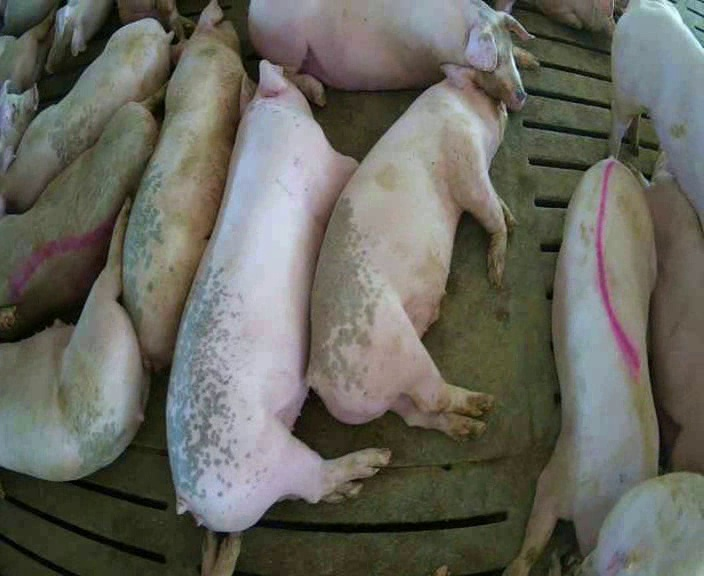pig: (167, 61, 389, 531), (307, 65, 510, 439), (506, 159, 657, 573), (123, 2, 244, 368), (0, 81, 168, 340), (0, 201, 147, 479), (0, 18, 172, 212), (249, 2, 539, 109), (630, 165, 703, 473), (610, 2, 703, 224), (581, 472, 703, 574), (0, 3, 57, 93), (45, 1, 112, 72), (0, 81, 38, 174)
